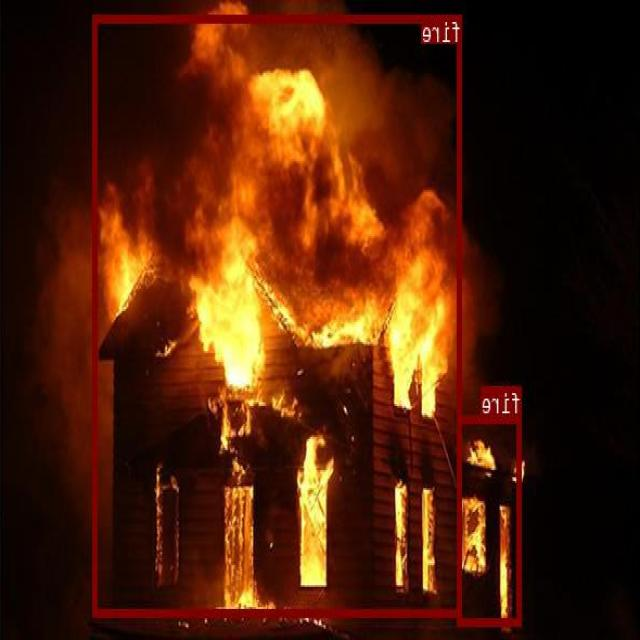fire: (94, 14, 463, 616), (458, 414, 522, 626)
